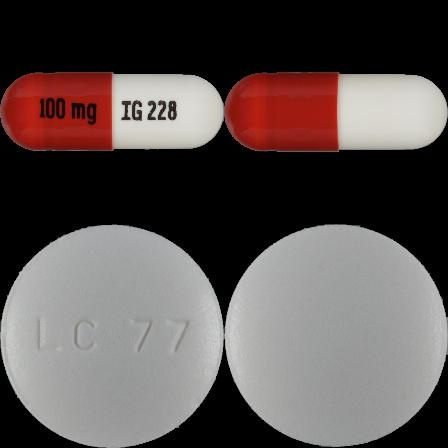50268-816: (0, 0, 224, 224)
